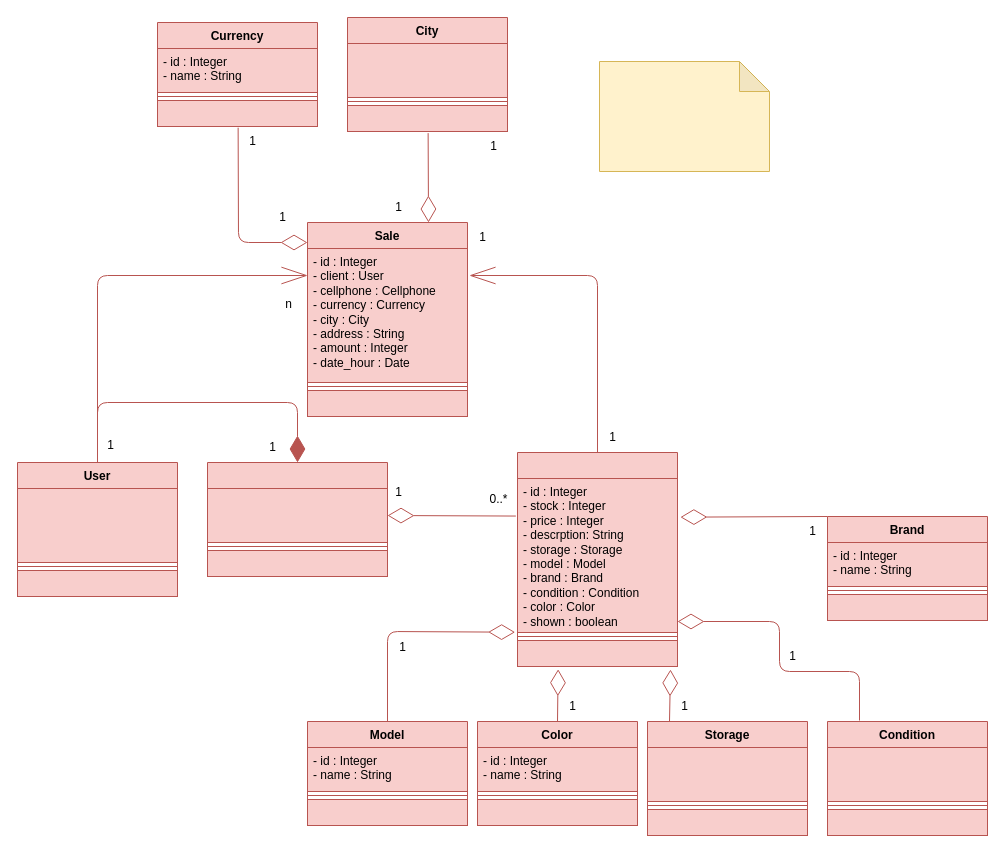
This 1005x853 diagram has some shape labels left out. The shapes that lost their labels are listed below. From the top down, each one's box as (x1, y1, x2, y2) in pixels, then its label:
(346, 42, 508, 98): - id : Integer - name : String - country : String
(598, 60, 770, 172): Todas las clases tienen solo métodos getter y setter para sus atributos.
(16, 488, 178, 562): - id : Integer - name : String - email : String - shoppingCart : Cart
(206, 488, 388, 542): - id : Integer - cellphones : List<Cellphone> - user : User
(206, 462, 388, 576): Cart
(516, 452, 678, 666): Cellphone
(646, 746, 808, 802): - id : Integer - number : Integer - unit : String
(826, 746, 988, 802): - id : Integer - name : String - observations : String
